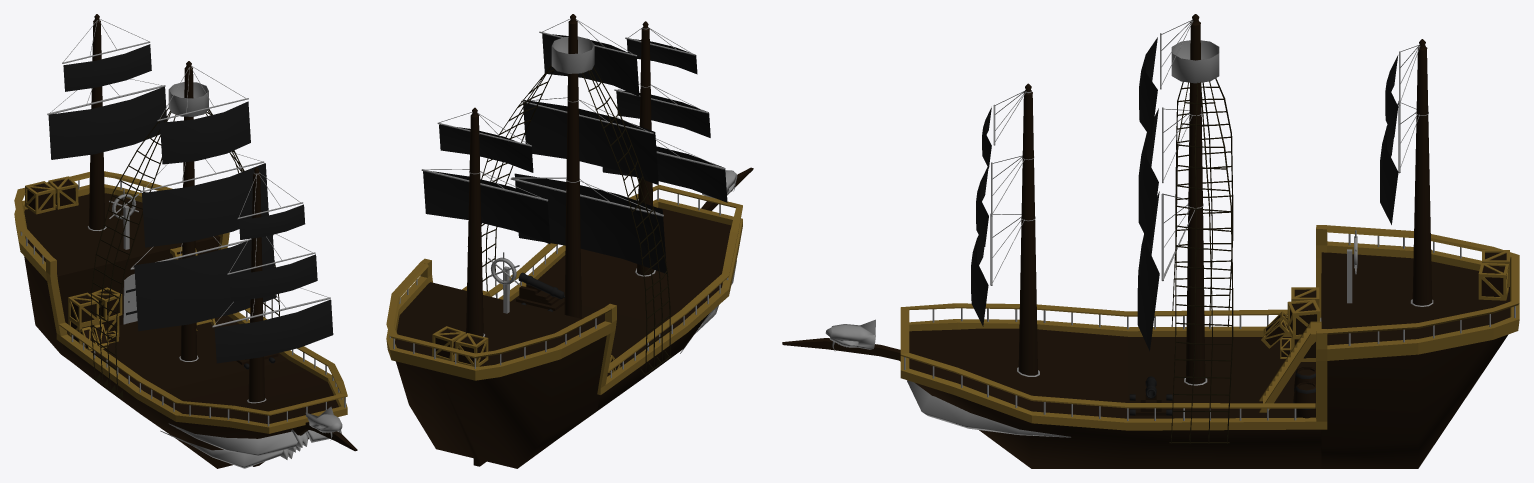
Rendered from boat.obj.
3 views of the same model, side by side, from view 1: azimuth 30°, elevation 25°; view 2: azimuth 150°, elevation 25°; view 3: azimuth 270°, elevation 25° (orthographic). The views are drawn at different scales.
Visible parts, largest first — view 1: pPlane1 pPlane2 pPlane3 pPlane4 pPlane5 pPlane6 pPlane7 pPlane8, pCube1, pCube2 polySurface2, pCylinder38, polySurface1 pCube2, pCylinder33 polySurface4, polySurface6 pCylinder33, pCube80, pCylinder33 polySurface5, pCube2 polySurface3, pPipe2, pCube78 (+7 smaller); view 2: pCube1, pPlane1 pPlane2 pPlane3 pPlane4 pPlane5 pPlane6 pPlane7 pPlane8, pCube2 polySurface2, pCylinder33 polySurface5, polySurface6 pCylinder33, pCylinder38, polySurface1 pCube2, pCube2 polySurface3, pCylinder33 polySurface4, pPipe2, polySurface66 polySurface64, pCylinder36 pCylinder34 (+3 smaller); view 3: pCube1, pCube2 polySurface2, pPlane1 pPlane2 pPlane3 pPlane4 pPlane5 pPlane6 pPlane7 pPlane8, pCylinder33 polySurface5, polySurface1 pCube2, pCylinder33 polySurface4, pCylinder36 pCylinder34, polySurface6 pCylinder33, pCube2 polySurface3, pCylinder38, pCube79 pCube71, pPipe2 (+5 smaller).
Part boxes in pixels (x1=…): pPlane1 pPlane2 pPlane3 pPlane4 pPlane5 pPlane6 pPlane7 pPlane8: x1=48, y1=44, x2=333, y2=363; pCube1: x1=24, y1=193, x2=357, y2=468; pCube2 polySurface2: x1=14, y1=184, x2=347, y2=433; pCylinder38: x1=90, y1=107, x2=175, y2=397; polySurface1 pCube2: x1=59, y1=308, x2=347, y2=415; pCylinder33 polySurface4: x1=248, y1=167, x2=264, y2=402; polySurface6 pCylinder33: x1=88, y1=14, x2=105, y2=229; pCube80: x1=168, y1=423, x2=297, y2=456; pCylinder33 polySurface5: x1=180, y1=61, x2=196, y2=360; pCube2 polySurface3: x1=14, y1=171, x2=172, y2=258; pPipe2: x1=168, y1=82, x2=208, y2=116; pCube78: x1=160, y1=430, x2=282, y2=468; pCube1: x1=395, y1=167, x2=753, y2=468; pPlane1 pPlane2 pPlane3 pPlane4 pPlane5 pPlane6 pPlane7 pPlane8: x1=423, y1=33, x2=727, y2=273; pCube2 polySurface2: x1=386, y1=198, x2=742, y2=394; pCylinder33 polySurface5: x1=564, y1=14, x2=581, y2=318; polySurface6 pCylinder33: x1=466, y1=107, x2=483, y2=336; pCylinder38: x1=582, y1=67, x2=671, y2=376; polySurface1 pCube2: x1=488, y1=185, x2=742, y2=372; pCube2 polySurface3: x1=386, y1=262, x2=611, y2=358; pCylinder33 polySurface4: x1=637, y1=21, x2=654, y2=275; pPipe2: x1=551, y1=36, x2=594, y2=73; polySurface66 polySurface64: x1=516, y1=272, x2=564, y2=311; pCylinder36 pCylinder34: x1=467, y1=64, x2=554, y2=295; pCube1: x1=782, y1=252, x2=1510, y2=468; pCube2 polySurface2: x1=900, y1=225, x2=1519, y2=430; pPlane1 pPlane2 pPlane3 pPlane4 pPlane5 pPlane6 pPlane7 pPlane8: x1=971, y1=37, x2=1398, y2=351; pCylinder33 polySurface5: x1=1186, y1=14, x2=1205, y2=384; polySurface1 pCube2: x1=900, y1=303, x2=1315, y2=408; pCylinder33 polySurface4: x1=1018, y1=83, x2=1037, y2=375; pCylinder36 pCylinder34: x1=1169, y1=80, x2=1233, y2=443; polySurface6 pCylinder33: x1=1412, y1=39, x2=1432, y2=305; pCube2 polySurface3: x1=1327, y1=225, x2=1519, y2=334; pCylinder38: x1=1171, y1=78, x2=1233, y2=326; pCube79 pCube71: x1=907, y1=380, x2=1070, y2=437; pPipe2: x1=1171, y1=40, x2=1219, y2=83.
Bounding box in the file's own units: 9.17 × 17.38 × 26.43.
